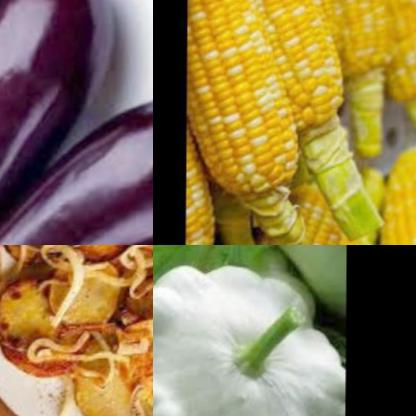corn: (187, 0, 311, 245), (226, 0, 355, 229), (227, 178, 351, 245), (317, 0, 387, 102), (361, 0, 416, 105), (186, 125, 233, 245), (383, 142, 416, 245), (332, 229, 394, 245)
eggplant: (0, 0, 109, 245), (0, 102, 153, 245)
onion: (23, 334, 129, 396), (44, 245, 80, 321), (117, 245, 153, 300), (0, 245, 28, 290), (52, 386, 80, 416)
potato: (0, 245, 153, 416)
squash-patisson: (153, 249, 347, 416)
